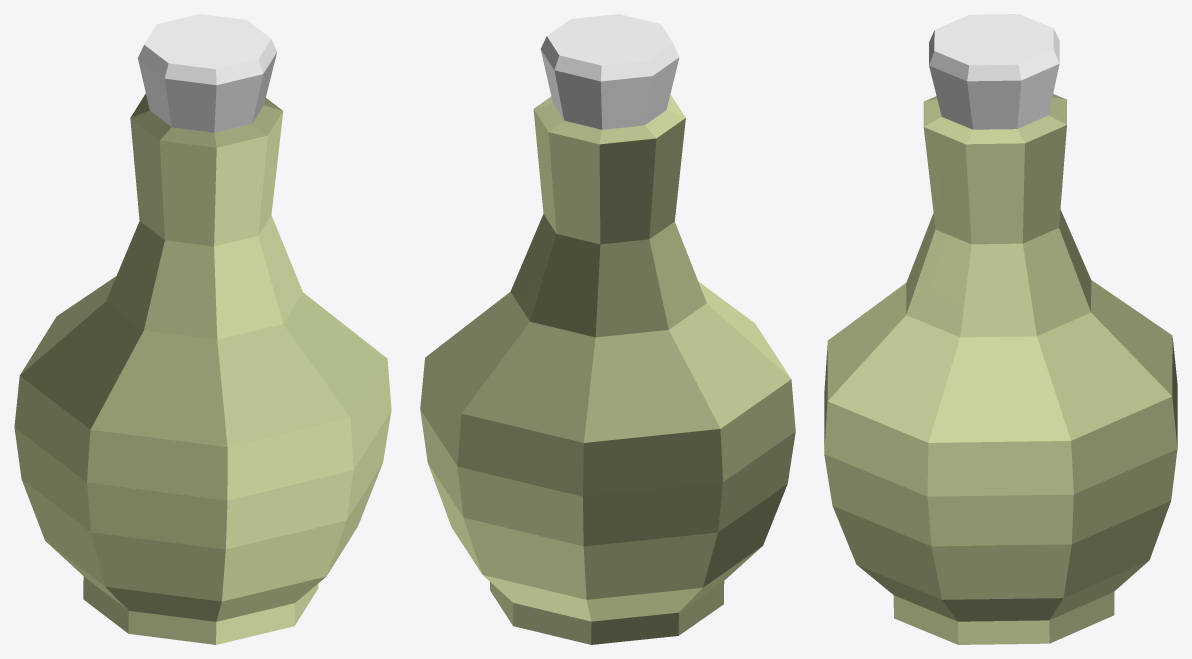
The model's file is water_vial.obj.
The picture shows the model from 3 angles, left to right: view 1: azimuth 30°, elevation 25°; view 2: azimuth 150°, elevation 25°; view 3: azimuth 270°, elevation 25°; orthographic projection.
Parts seen in each view (by area): view 1: vial, cork; view 2: vial, cork; view 3: vial, cork.
Part boxes in pixels (x1,y1,x2,y2): vial: (14, 93, 391, 644); cork: (138, 14, 277, 132); vial: (420, 94, 795, 644); cork: (540, 14, 679, 129); vial: (824, 94, 1177, 644); cork: (929, 14, 1059, 129).
Bounding box in the file's own units: 10.23 × 17.91 × 10.23.
